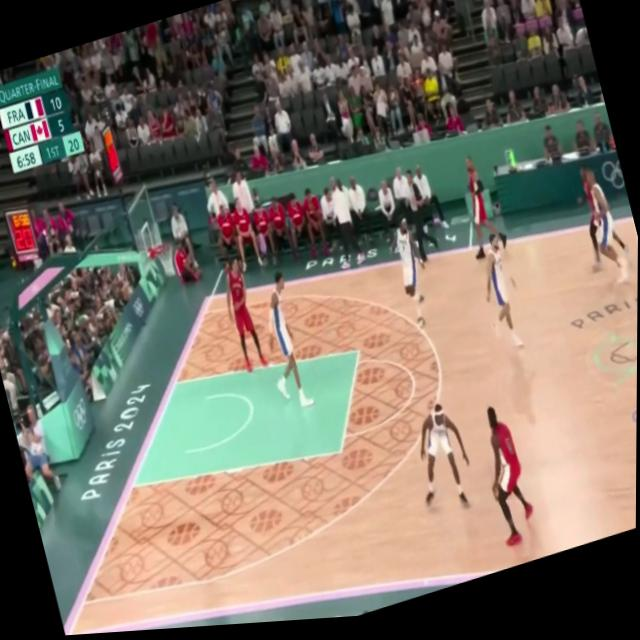ball_handler: (473, 406, 539, 558)
